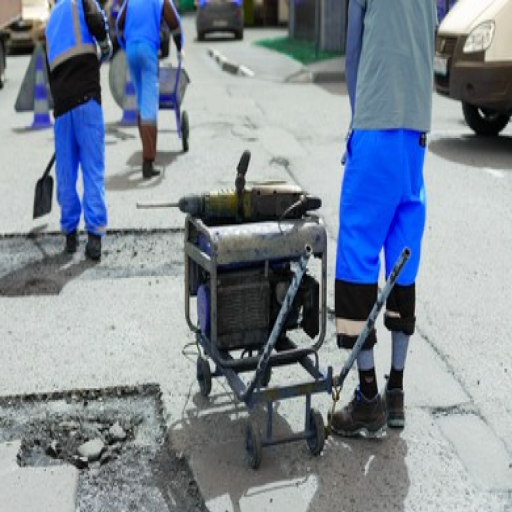portable_generator: (185, 213, 329, 367)
